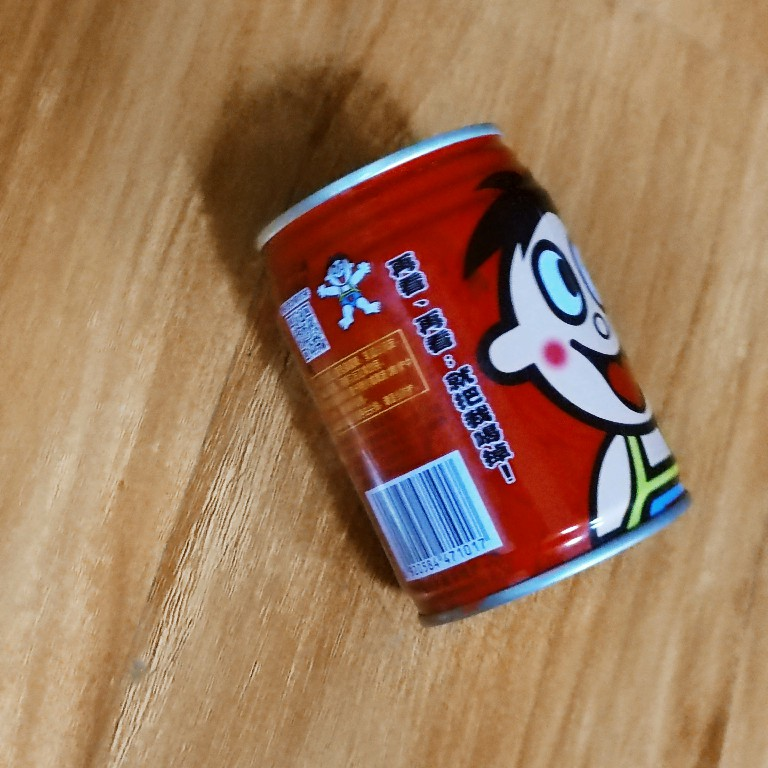can: (246, 118, 698, 632)
